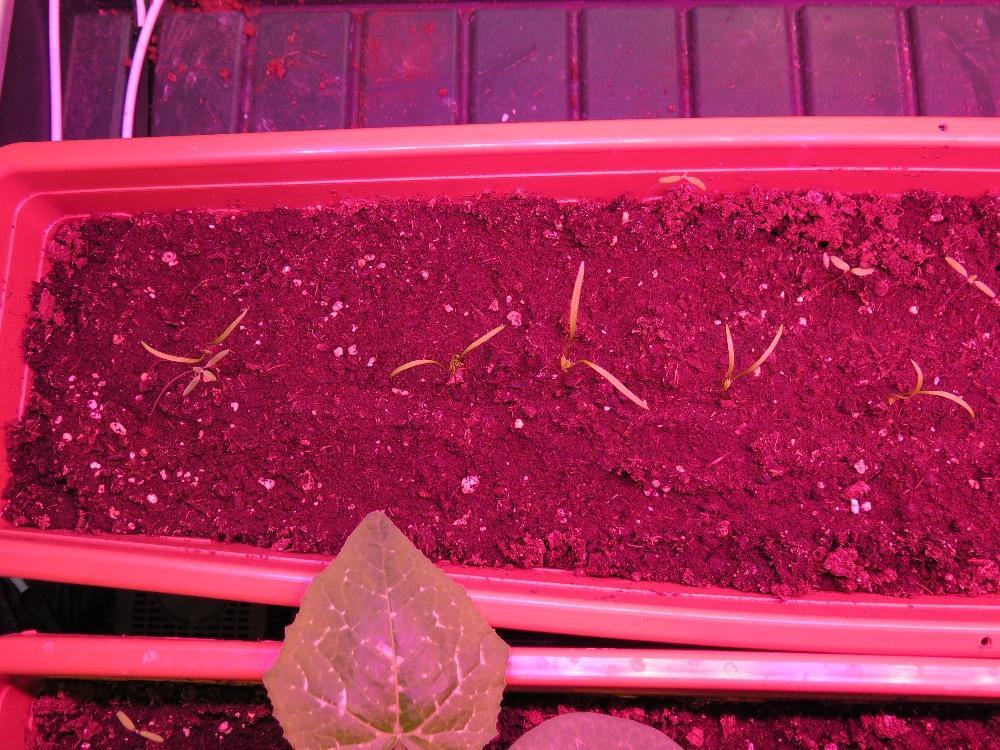crop: (557, 255, 649, 411), (386, 322, 507, 379), (883, 355, 974, 421), (718, 320, 784, 394)
weed: (942, 252, 996, 297), (827, 252, 874, 275)
